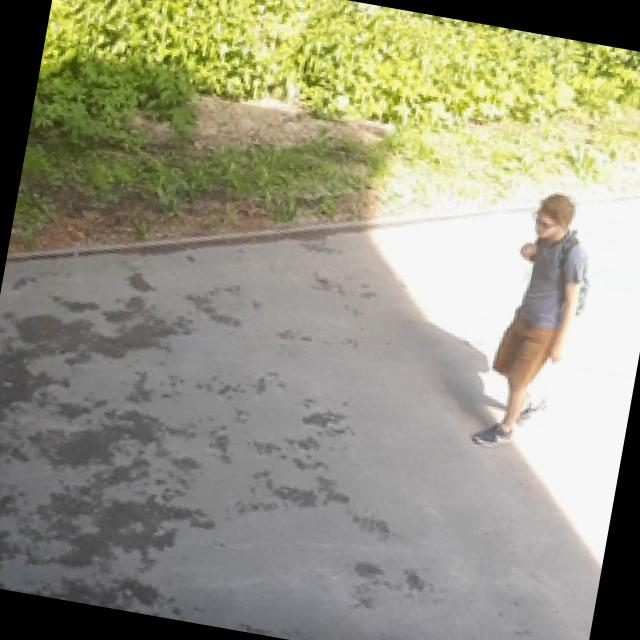person: (473, 186, 602, 458)
